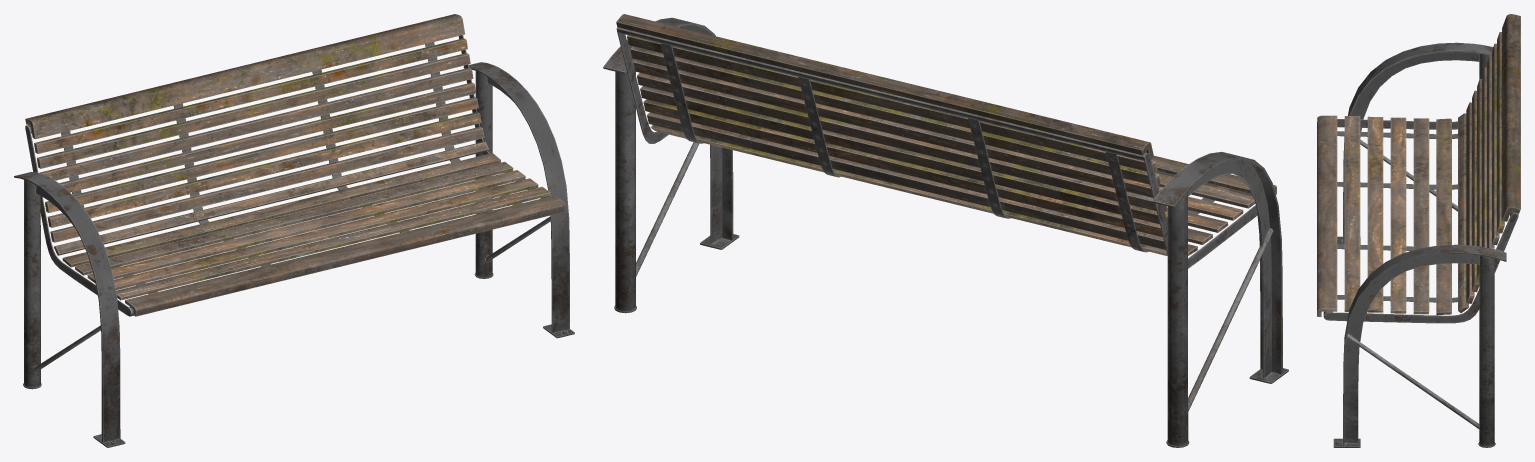
Rendered from PublicBench.obj.
The picture shows the model from 3 angles, left to right: view 1: azimuth 30°, elevation 25°; view 2: azimuth 150°, elevation 25°; view 3: azimuth 270°, elevation 25°; orthographic projection. The views are drawn at different scales.
Parts seen in each view (by area): view 1: PublicBench_LP; view 2: PublicBench_LP; view 3: PublicBench_LP.
Boxes of the visible parts, <box> form: PublicBench_LP: <box>14,14,574,447</box>; PublicBench_LP: <box>603,14,1288,447</box>; PublicBench_LP: <box>1317,14,1520,447</box>.
Size of the model in its own units: 1.6 by 0.8269 by 0.6568.
Materials: 1 (1 with a texture image).
